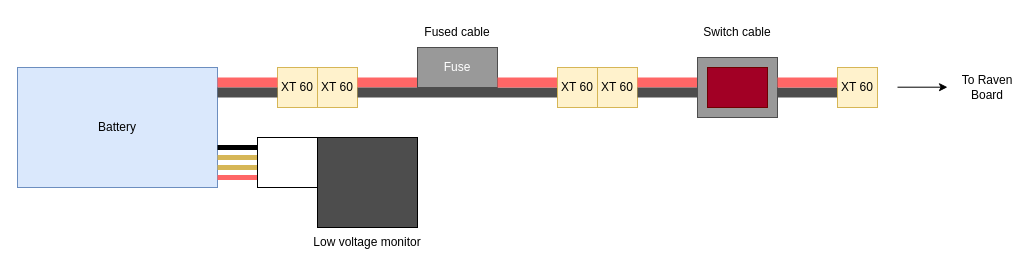
This 1035x274 diagram has some shape labels left out. Here are the shapes that lost their labels. From the top down, the box of each, then its label:
(706, 66, 768, 108): --- O
(256, 136, 318, 188): JST-XH
(316, 136, 418, 228): XXX
